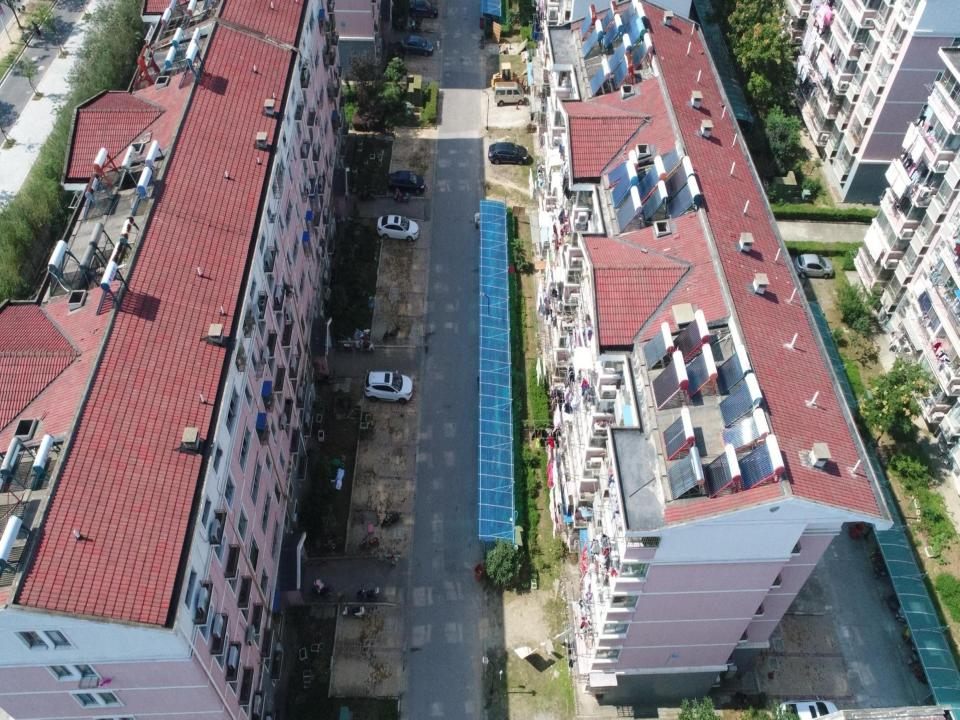car: (364, 369, 414, 404), (792, 249, 834, 279), (376, 214, 419, 242), (778, 700, 839, 719), (487, 142, 528, 166), (400, 35, 434, 57), (408, 0, 439, 19)
van: (494, 82, 524, 106)
